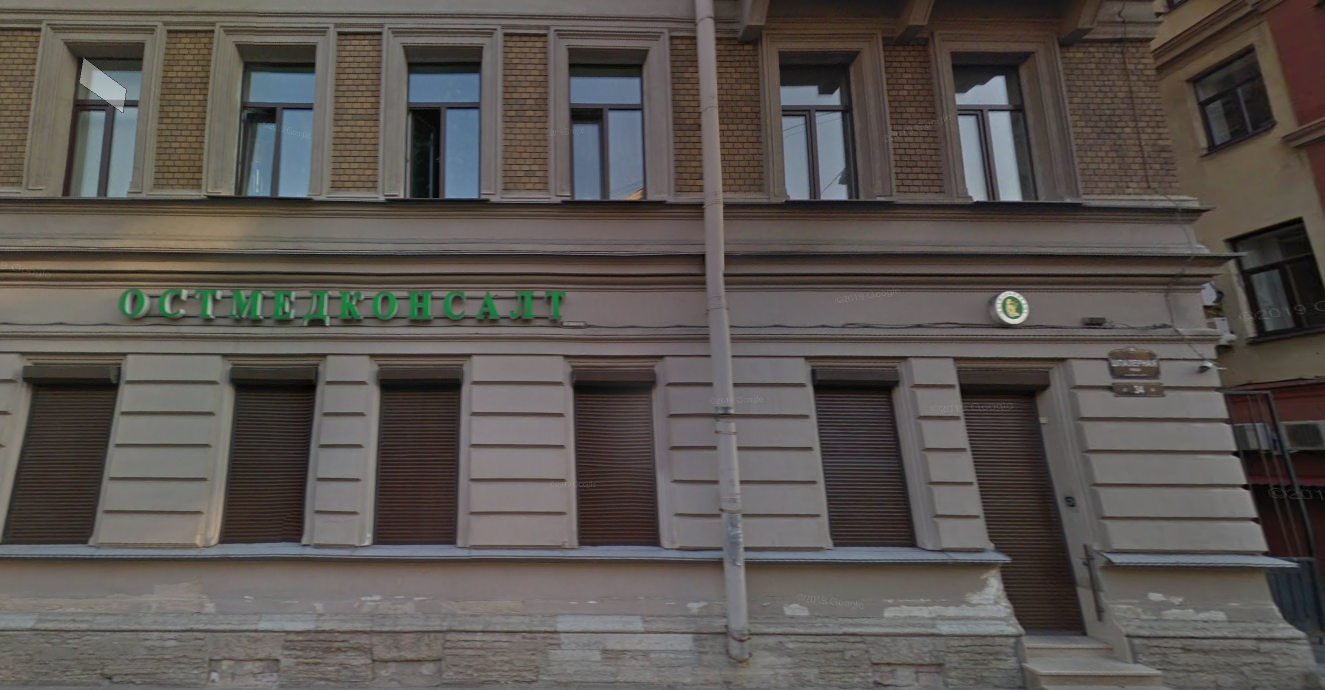door: (962, 392, 1081, 636)
signboard: (112, 282, 569, 333), (986, 278, 1038, 329)
window: (211, 381, 322, 547), (16, 387, 119, 547), (940, 51, 1039, 202), (372, 384, 466, 541), (577, 391, 657, 552), (821, 389, 898, 555), (228, 63, 320, 199), (59, 58, 142, 197), (566, 61, 646, 205), (399, 64, 480, 197), (779, 58, 849, 200)
